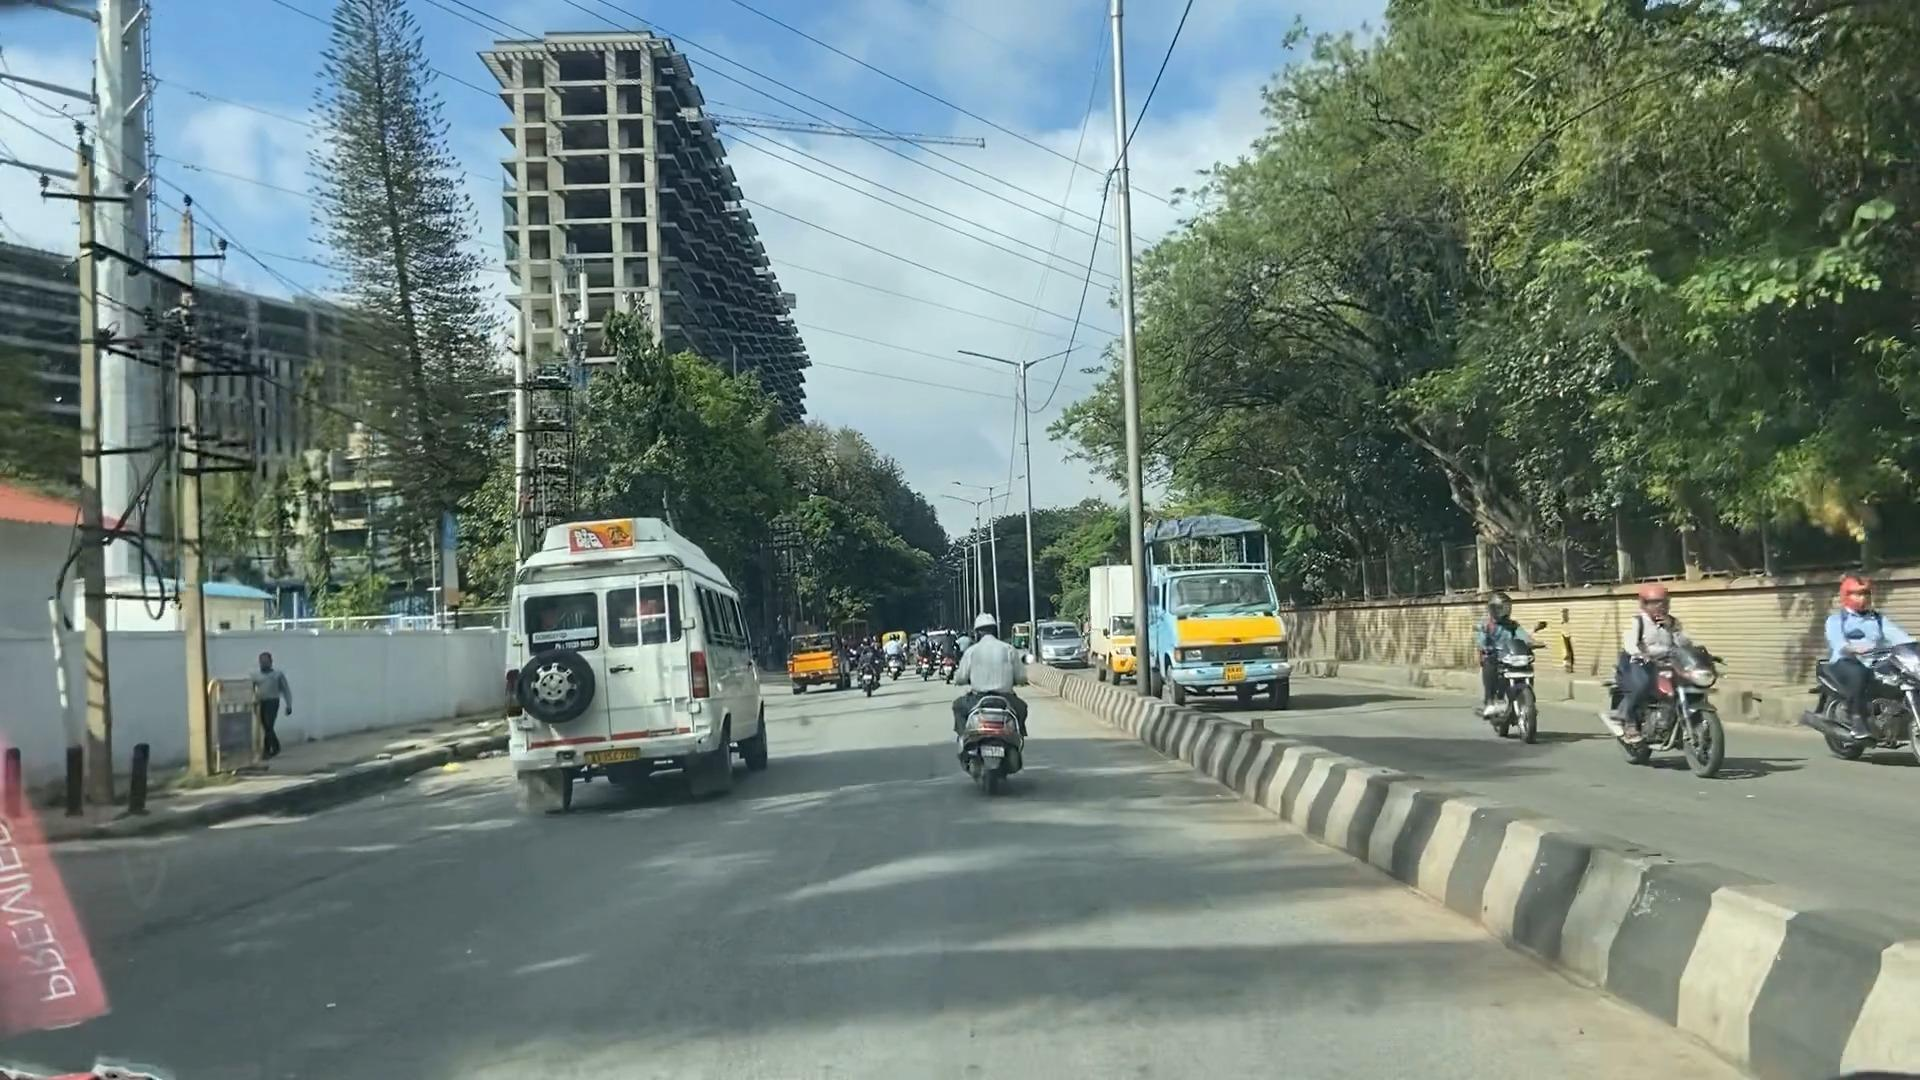HMV: (493, 516, 775, 808)
LMV: (919, 616, 1046, 794)
